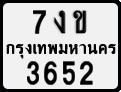letters: (79, 60, 94, 86), (44, 60, 58, 86), (62, 60, 76, 86), (33, 9, 46, 35), (73, 10, 87, 34), (27, 61, 39, 85), (54, 10, 66, 34)
province: (6, 43, 116, 59)
